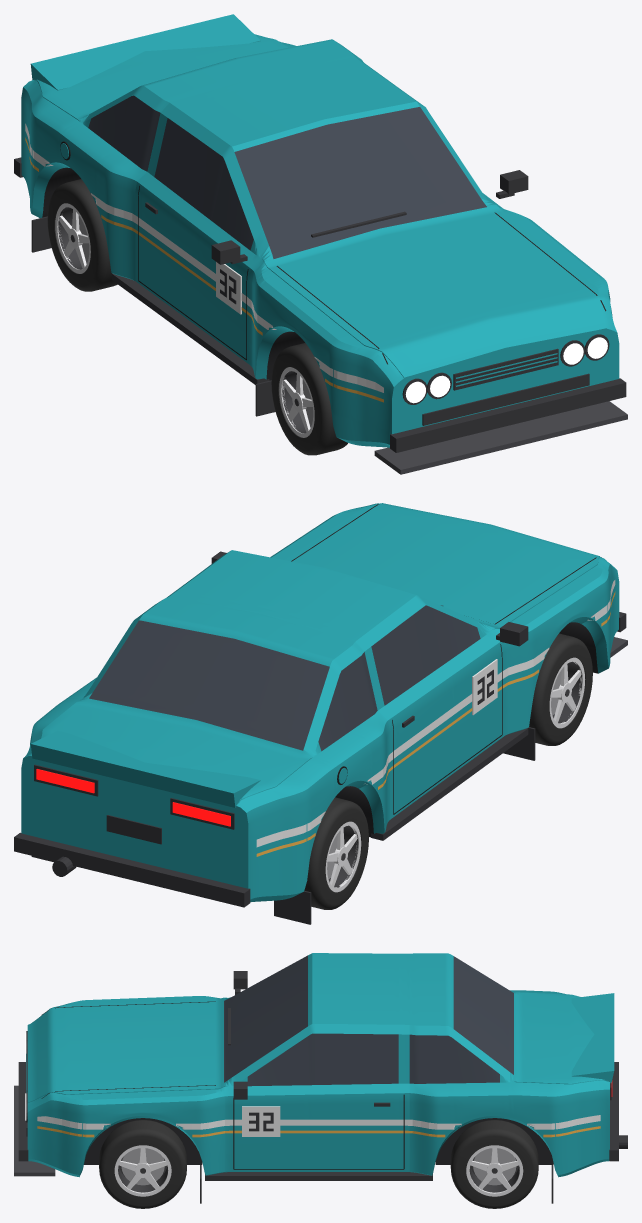
The model's file is boxy-touring-coupe.glb.
3 renders of one model, top to bottom at view 1: azimuth 30°, elevation 25°; view 2: azimuth 150°, elevation 25°; view 3: azimuth 270°, elevation 25°, orthographic. The views are drawn at different scales.
Visible parts, largest first — view 1: Body, Wheel_FR, Wheel_RR; view 2: Body, Wheel_FR, Wheel_RR; view 3: Body, Wheel_RL, Wheel_FL.
Boxes of the visible parts, x1,y1,x2,y2 form: Body: [14, 14, 627, 474]; Wheel_FR: [271, 343, 347, 455]; Wheel_RR: [47, 179, 117, 291]; Body: [14, 503, 627, 924]; Wheel_FR: [529, 633, 592, 745]; Wheel_RR: [304, 797, 368, 909]; Body: [14, 953, 627, 1203]; Wheel_RL: [450, 1120, 538, 1208]; Wheel_FL: [99, 1120, 186, 1208].
Size of the model in its own units: 2.03 by 1.4 by 4.47.
